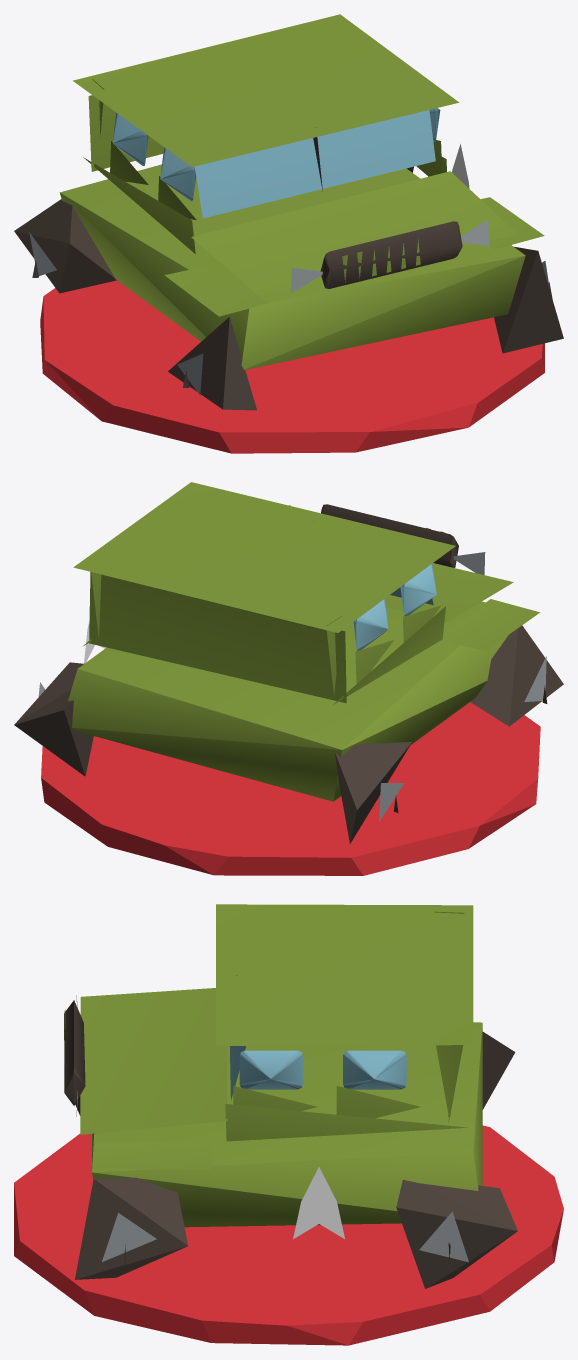
Rendered from usa_militia_lod1.glb.
3 views of the same model, one above another, from view 1: azimuth 30°, elevation 25°; view 2: azimuth 150°, elevation 25°; view 3: azimuth 270°, elevation 25° (orthographic). The views are drawn at different scales.
Visible parts, largest first — view 1: body_hull, base_pedestal; view 2: body_hull, base_pedestal; view 3: body_hull, base_pedestal.
Boxes of the visible parts, <box> form: body_hull: <box>14,14,563,410</box>; base_pedestal: <box>40,280,544,453</box>; body_hull: <box>14,482,563,843</box>; base_pedestal: <box>41,702,540,875</box>; body_hull: <box>64,904,517,1288</box>; base_pedestal: <box>14,1125,563,1345</box>.
Size of the model in its own units: 0.7751 by 0.3972 by 0.7751.
